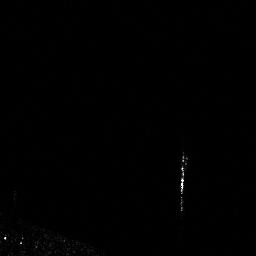ship: (176, 153, 189, 195)
